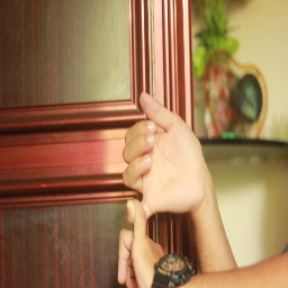S: (110, 90, 208, 288)
